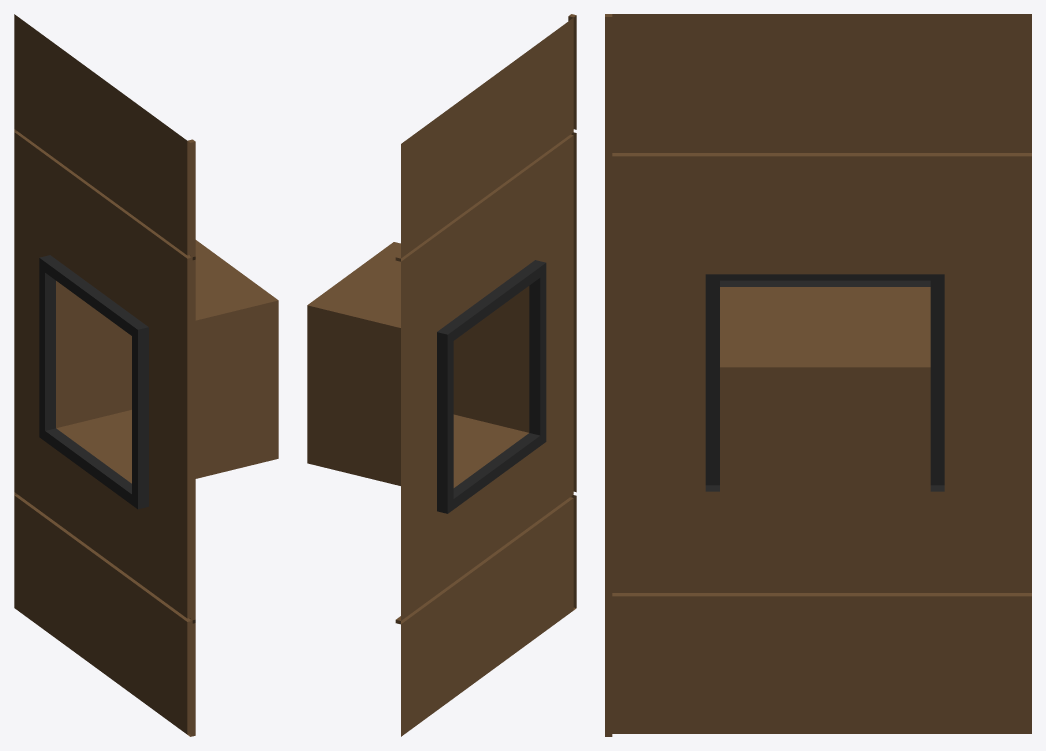
Rendered from design wall2a.fbx.
3 views of the same model, side by side, from view 1: azimuth 30°, elevation 25°; view 2: azimuth 150°, elevation 25°; view 3: azimuth 270°, elevation 25° (orthographic). The views are drawn at different scales.
Visible parts, largest first — view 1: Cube, Cube_1; view 2: Cube, Cube_1; view 3: Cube, Cube_1.
Part boxes in pixels (x1,y1,x2,y2): Cube: (14,14,278,736); Cube_1: (39,255,148,509); Cube: (307,14,576,736); Cube_1: (437,260,546,513); Cube: (605,14,1031,736); Cube_1: (705,274,944,491).
Size of the model in its own units: 333 by 1287 by 692.
